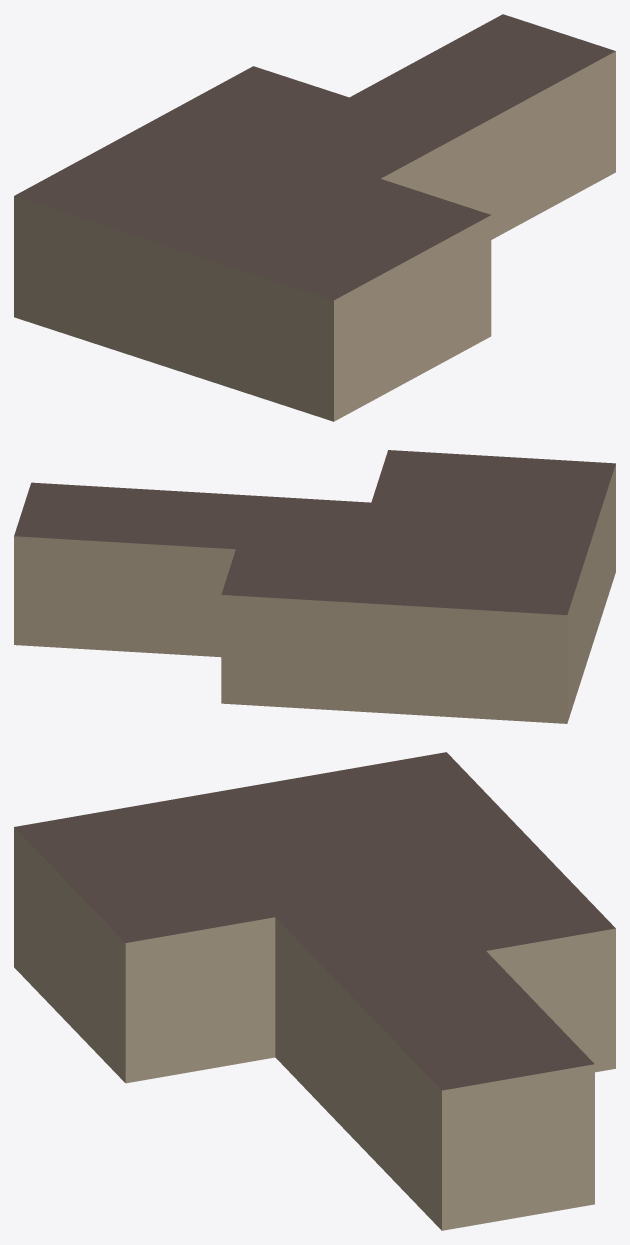
3 renders of one model, top to bottom at view 1: azimuth 30°, elevation 25°; view 2: azimuth 150°, elevation 25°; view 3: azimuth 270°, elevation 25°, orthographic. The views are drawn at different scales.
Parts seen in each view (by area): view 1: HP-w859078938; view 2: HP-w859078938; view 3: HP-w859078938.
Part boxes in pixels (<box>): HP-w859078938: <box>14,14,615,421</box>; HP-w859078938: <box>14,450,615,723</box>; HP-w859078938: <box>14,752,615,1230</box>.
Bounding box in the file's own units: 46.58 × 9 × 35.
